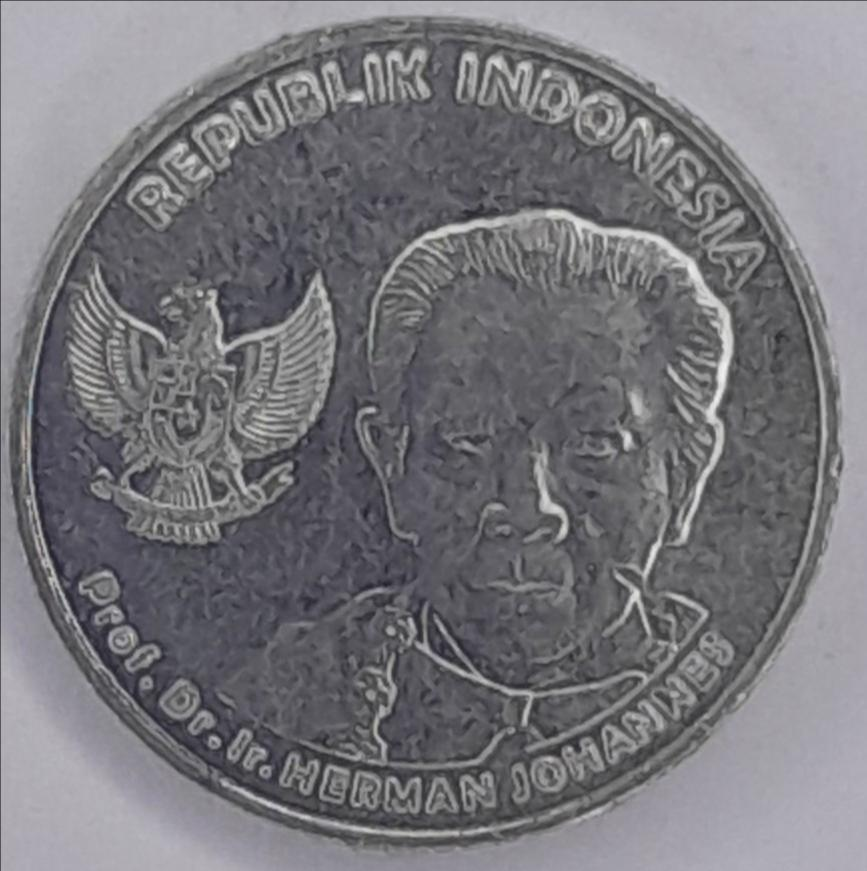coin_100_e2016: (5, 9, 848, 851)
